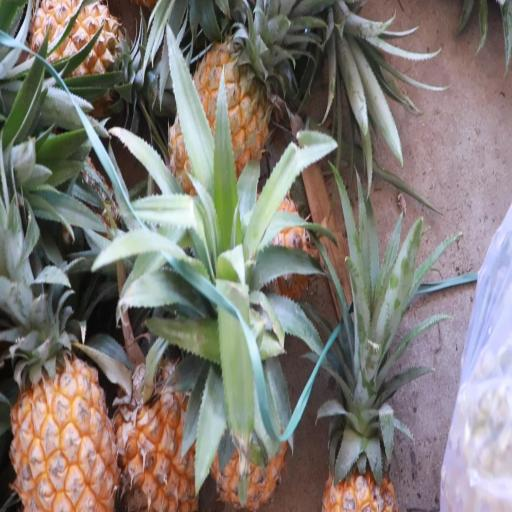Pineapple - v8 v1: (166, 26, 280, 220), (5, 326, 121, 512), (24, 0, 150, 139), (110, 366, 209, 512)
